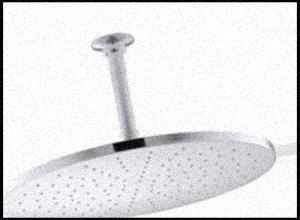Ducha: (3, 29, 296, 217)
